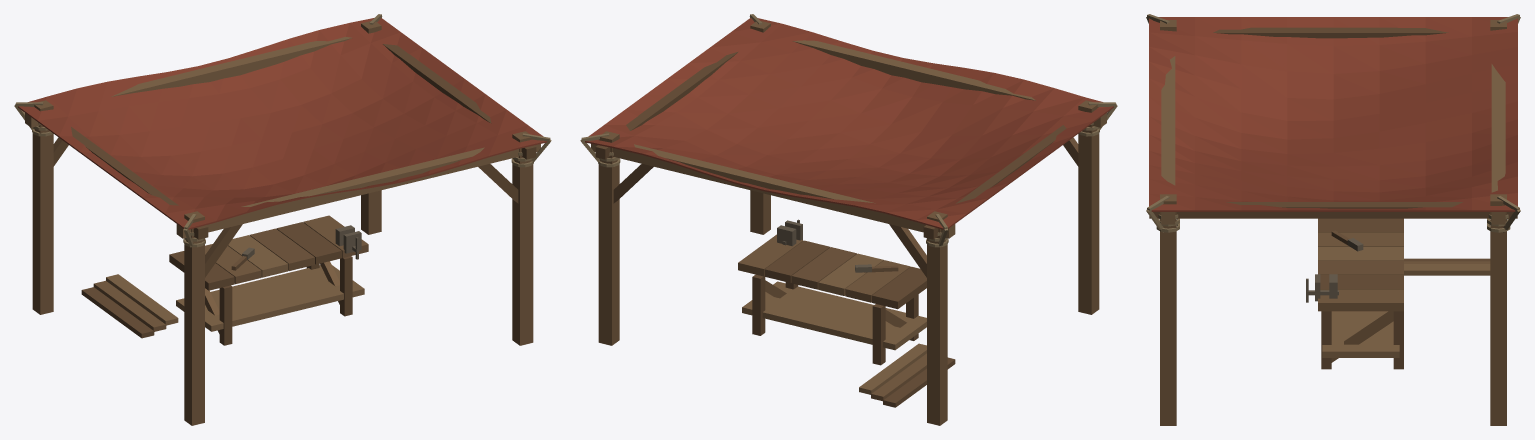
Rendered from repair_awning.glb.
3 views of the same model, side by side, from view 1: azimuth 30°, elevation 25°; view 2: azimuth 150°, elevation 25°; view 3: azimuth 270°, elevation 25° (orthographic). The views are drawn at different scales.
Parts seen in each view (by area): view 1: repair_awning_Harbor weathered red canvas, repair_awning_Harbor oak plank 1, repair_awning_Harbor oak plank 2, repair_awning_Harbor oak plank 0, repair_awning_Harbor oak plank 3, repair_awning_Harbor hemp lashings, repair_awning_Keeper dark forged bronze; view 2: repair_awning_Harbor weathered red canvas, repair_awning_Harbor oak plank 1, repair_awning_Harbor oak plank 2, repair_awning_Harbor oak plank 0, repair_awning_Harbor oak plank 3, repair_awning_Harbor hemp lashings, repair_awning_Keeper dark forged bronze; view 3: repair_awning_Harbor weathered red canvas, repair_awning_Harbor oak plank 1, repair_awning_Harbor oak plank 0, repair_awning_Harbor oak plank 2, repair_awning_Harbor oak plank 3, repair_awning_Harbor hemp lashings, repair_awning_Keeper dark forged bronze.
Boxes of the visible parts, x1,y1,x2,y2 form: repair_awning_Harbor weathered red canvas: [18, 18, 546, 229]; repair_awning_Harbor oak plank 1: [32, 21, 533, 425]; repair_awning_Harbor oak plank 2: [25, 37, 540, 331]; repair_awning_Harbor oak plank 0: [53, 44, 536, 345]; repair_awning_Harbor oak plank 3: [231, 228, 314, 270]; repair_awning_Harbor hemp lashings: [14, 14, 551, 247]; repair_awning_Keeper dark forged bronze: [242, 225, 361, 259]; repair_awning_Harbor weathered red canvas: [585, 18, 1113, 229]; repair_awning_Harbor oak plank 1: [598, 21, 1099, 425]; repair_awning_Harbor oak plank 2: [591, 40, 1106, 394]; repair_awning_Harbor oak plank 0: [595, 51, 1078, 407]; repair_awning_Harbor oak plank 3: [791, 247, 898, 289]; repair_awning_Harbor hemp lashings: [580, 14, 1117, 247]; repair_awning_Keeper dark forged bronze: [777, 219, 871, 272]; repair_awning_Harbor weathered red canvas: [1149, 17, 1517, 211]; repair_awning_Harbor oak plank 1: [1160, 20, 1506, 425]; repair_awning_Harbor oak plank 0: [1149, 27, 1517, 369]; repair_awning_Harbor oak plank 2: [1161, 56, 1505, 357]; repair_awning_Harbor oak plank 3: [1318, 230, 1403, 274]; repair_awning_Harbor hemp lashings: [1146, 14, 1520, 232]; repair_awning_Keeper dark forged bronze: [1306, 238, 1363, 302].
Bounding box in the file's own units: 6.73 × 3.63 × 5.45.
